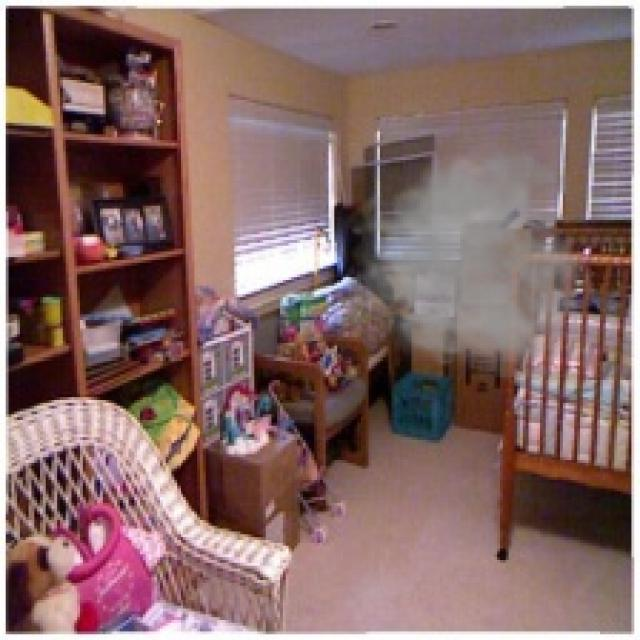Smoke: (340, 132, 597, 378)
